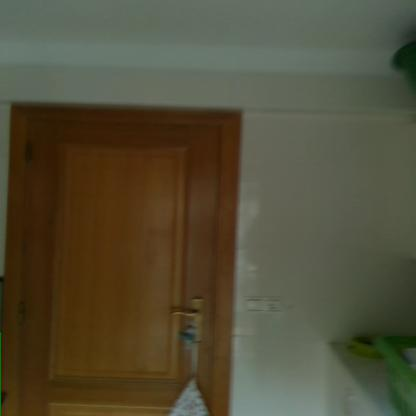door: (27, 121, 217, 415)
lever: (16, 299, 32, 326), (22, 140, 36, 168), (170, 310, 204, 320)
